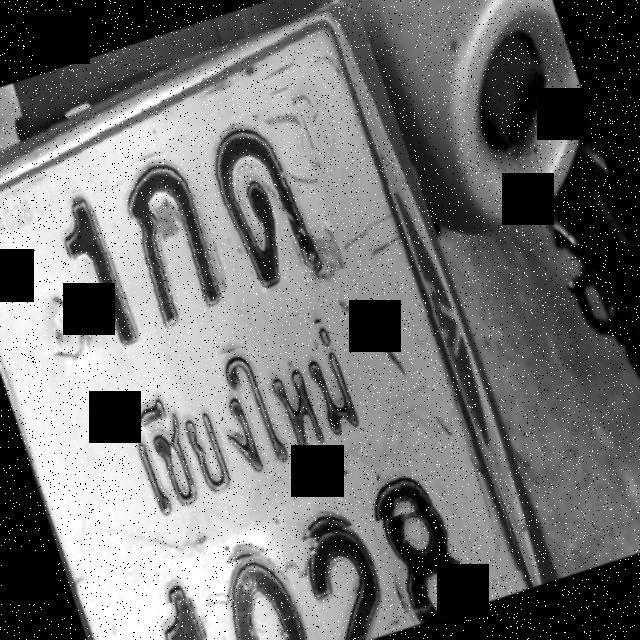letters: (183, 86, 346, 301), (105, 145, 242, 337), (39, 182, 164, 374), (372, 496, 488, 628), (290, 519, 403, 640), (197, 545, 316, 640), (145, 589, 239, 640)
license-plate: (0, 8, 525, 640)
province: (104, 316, 379, 526)
